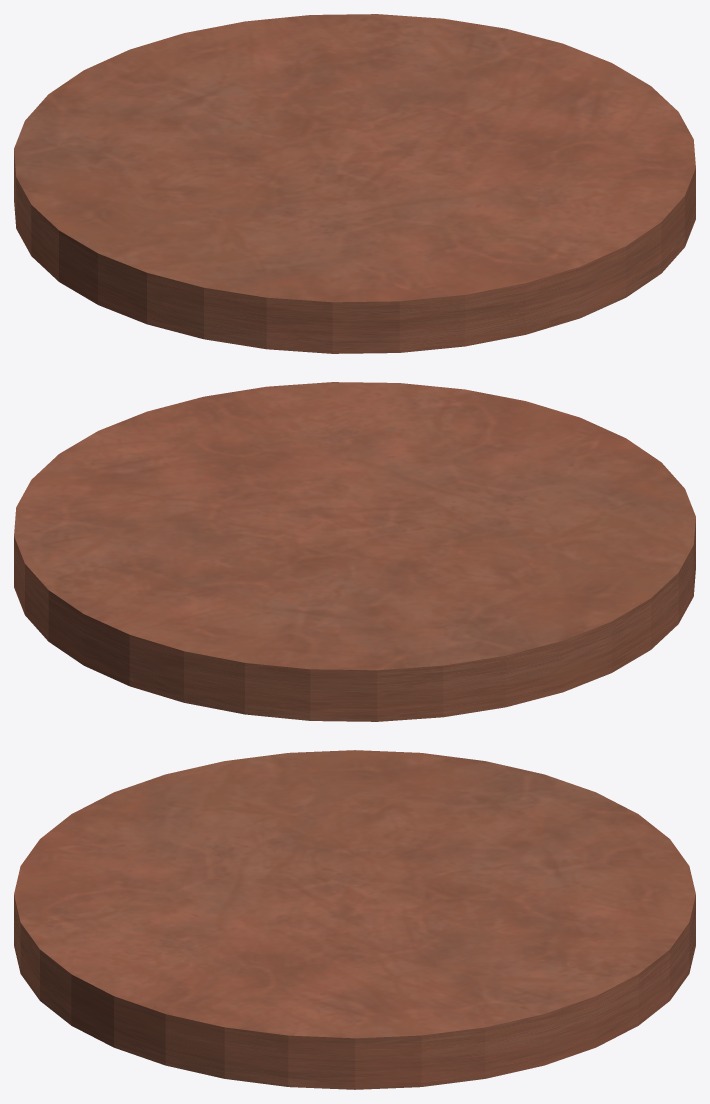
Rendered from pieceThatGoesInHole2.glb.
The picture shows the model from 3 angles, top to bottom: view 1: azimuth 30°, elevation 25°; view 2: azimuth 150°, elevation 25°; view 3: azimuth 270°, elevation 25°; orthographic projection.
Parts seen in each view (by area): view 1: Cylinder.015; view 2: Cylinder.015; view 3: Cylinder.015.
Boxes of the visible parts, x1=… form: Cylinder.015: x1=14, y1=14, x2=695, y2=353; Cylinder.015: x1=14, y1=382, x2=695, y2=721; Cylinder.015: x1=14, y1=750, x2=695, y2=1089.
Size of the model in its own units: 1.8 by 0.15 by 1.8.
1 material, 1 textured.
